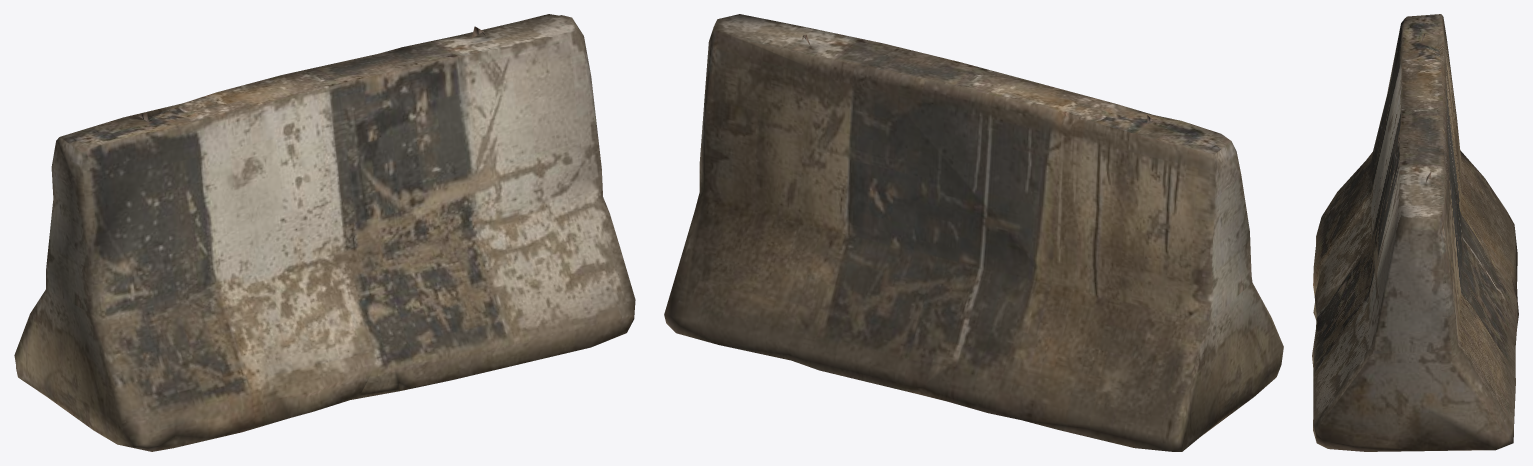
Rendered from barrier.glb.
The picture shows the model from 3 angles, left to right: view 1: azimuth 30°, elevation 25°; view 2: azimuth 150°, elevation 25°; view 3: azimuth 270°, elevation 25°; orthographic projection. The views are drawn at different scales.
Visible parts, largest first — view 1: concrete_road_barrier; view 2: concrete_road_barrier; view 3: concrete_road_barrier.
Part boxes in pixels (x1,y1,x2,y2): concrete_road_barrier: (14, 14, 635, 451); concrete_road_barrier: (664, 14, 1283, 451); concrete_road_barrier: (1312, 14, 1518, 451).
Bounding box in the file's own units: 1.54 × 0.8276 × 0.6337.
Materials: 1 (1 with a texture image).
